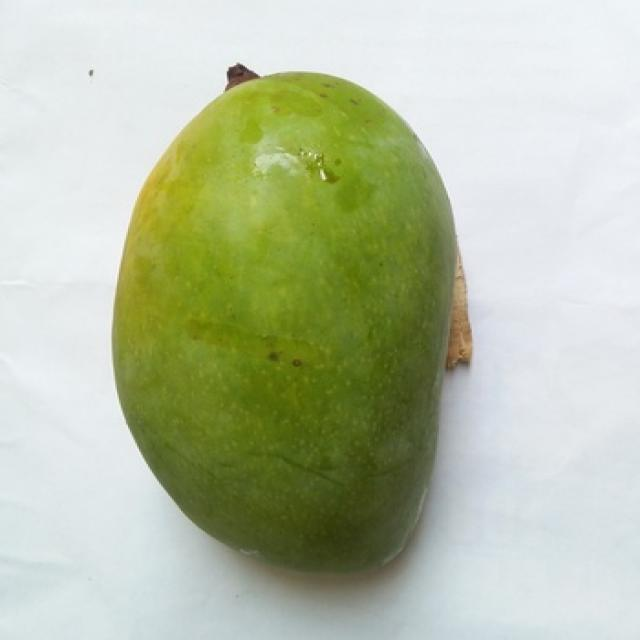Mango: (113, 73, 455, 569)
